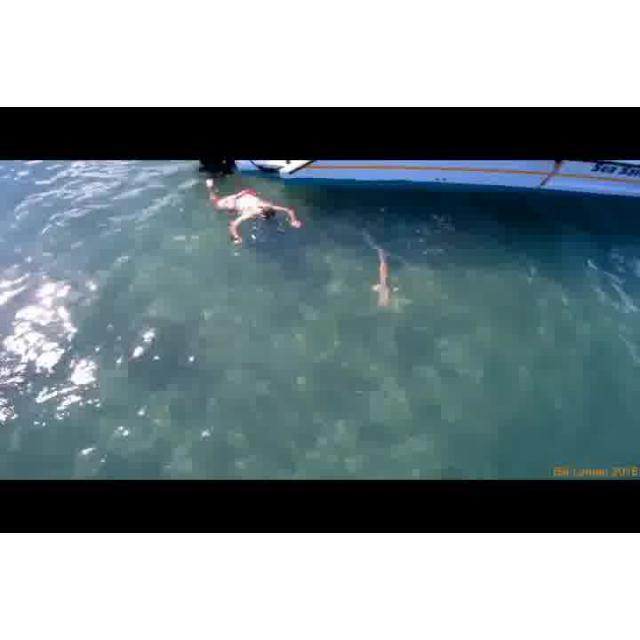human: (206, 181, 303, 247)
